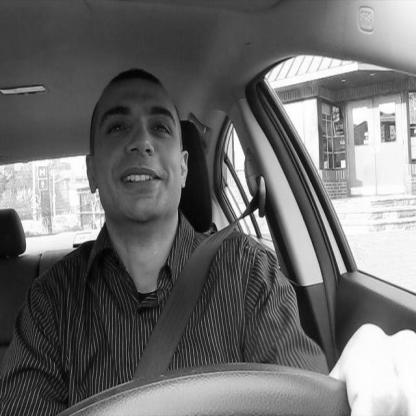seatbelt: (84, 63, 266, 377)
